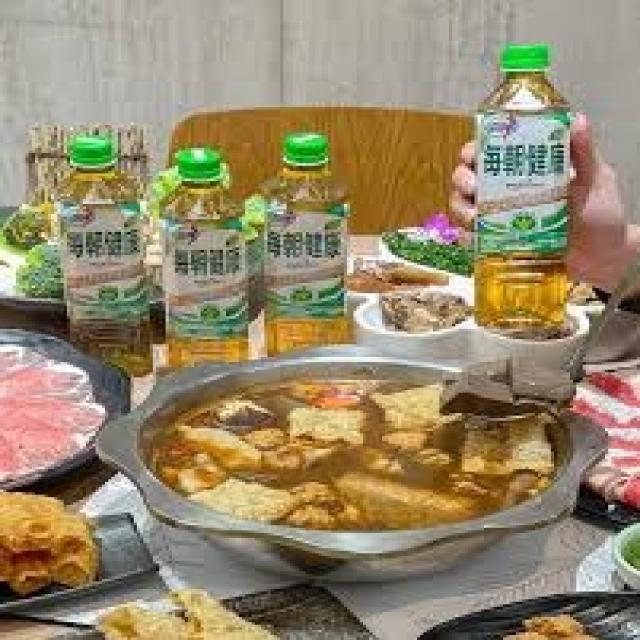MeiChou_GreenTea: (473, 40, 586, 334), (250, 122, 356, 347), (52, 136, 154, 369), (157, 136, 259, 365)
